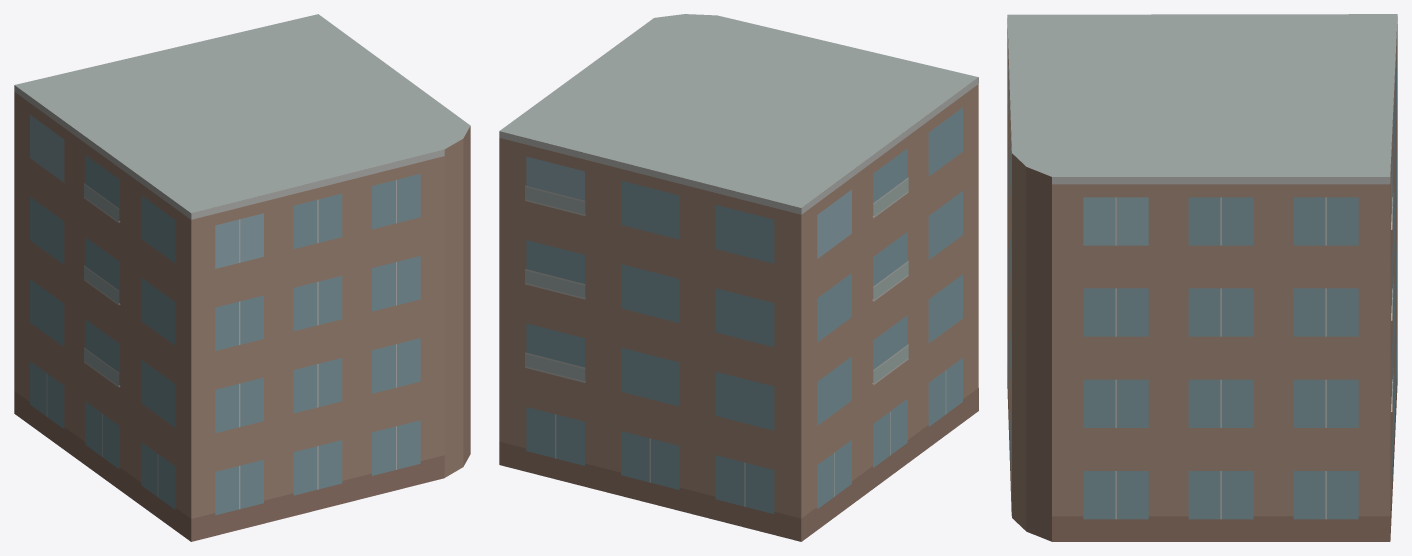
The model's file is survey-upis-32814389.glb.
The picture shows the model from 3 angles, left to right: view 1: azimuth 30°, elevation 25°; view 2: azimuth 150°, elevation 25°; view 3: azimuth 270°, elevation 25°; orthographic projection. The views are drawn at different scales.
Parts seen in each view (by area): view 1: survey-upis-32814389.tmp; view 2: survey-upis-32814389.tmp; view 3: survey-upis-32814389.tmp.
Boxes of the visible parts, x1,y1,x2,y2 form: survey-upis-32814389.tmp: (14, 14, 470, 541); survey-upis-32814389.tmp: (499, 14, 978, 541); survey-upis-32814389.tmp: (1007, 14, 1397, 541).
Bounding box in the file's own units: 11.72 × 12.2 × 11.84.
